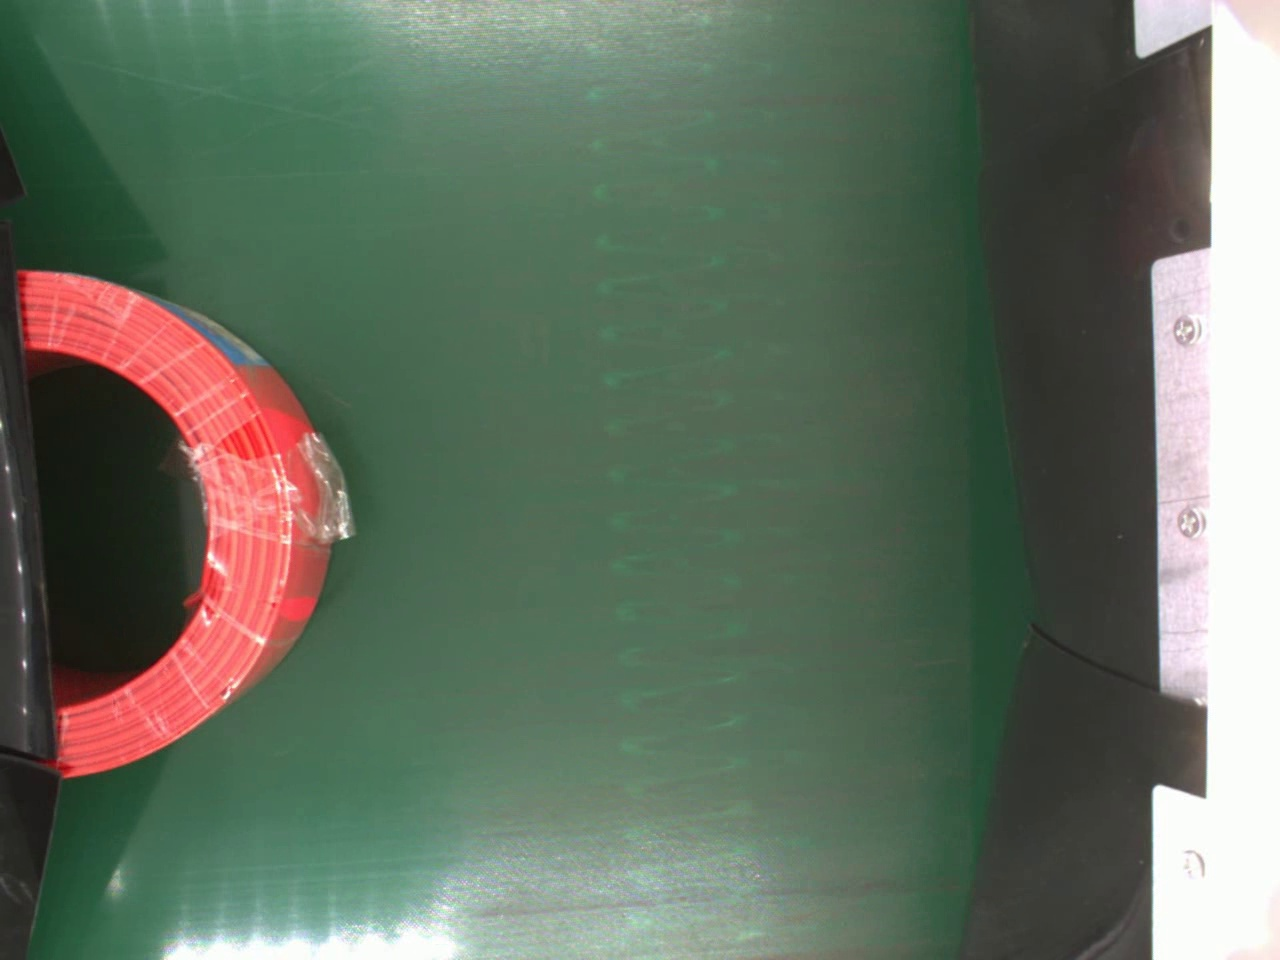red: (9, 270, 352, 782)
